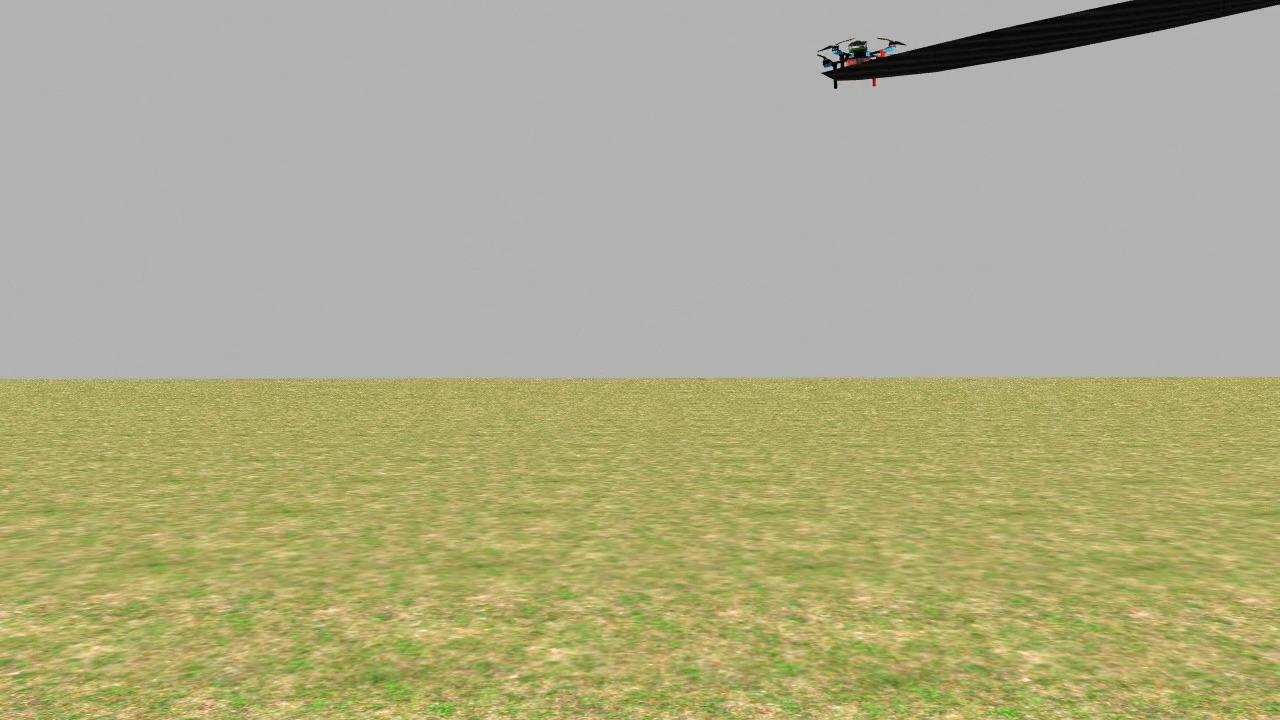UAV: (805, 25, 911, 94)
